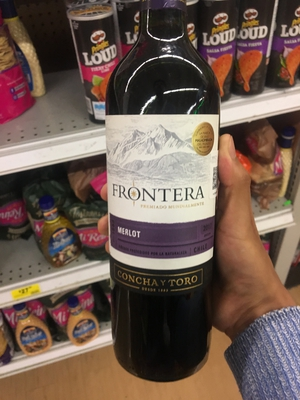frontera merlot: (96, 16, 249, 400)
